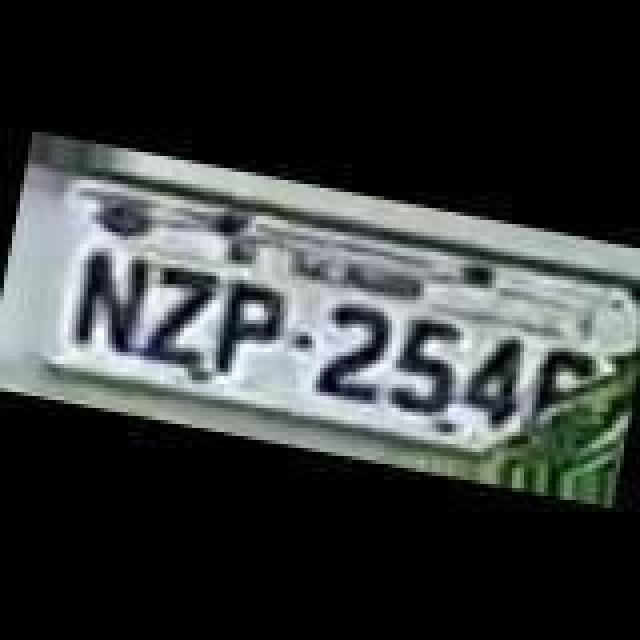2: (308, 296, 396, 408)
4: (458, 330, 534, 438)
5: (384, 312, 464, 424)
N: (68, 248, 148, 360)
P: (208, 276, 288, 388)
Z: (134, 264, 218, 376)
